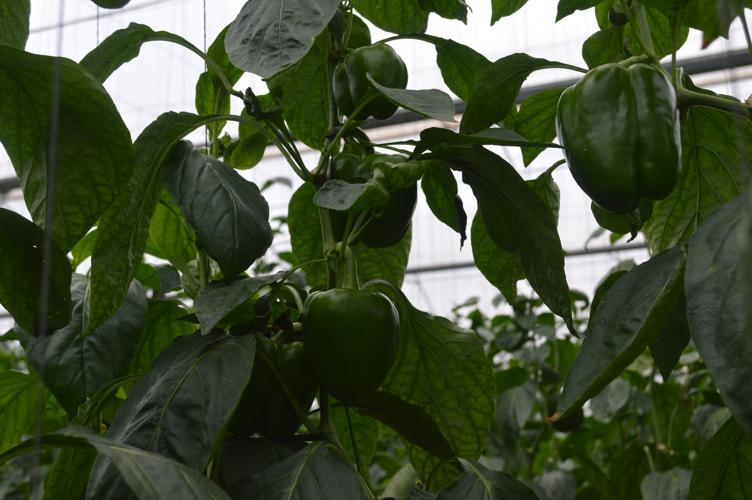BellPepper: (544, 53, 691, 220), (299, 278, 414, 401), (221, 330, 313, 435), (334, 148, 419, 253), (326, 39, 409, 131)
